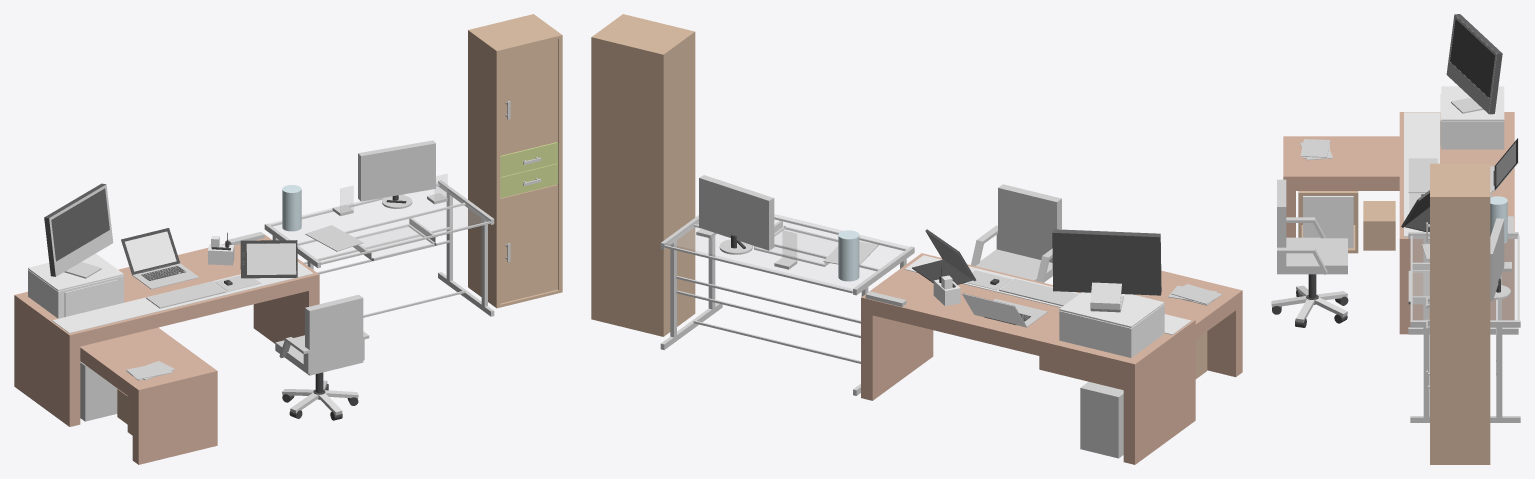
The model's file is studyroom7.glb.
3 renders of one model, left to right at view 1: azimuth 30°, elevation 25°; view 2: azimuth 150°, elevation 25°; view 3: azimuth 270°, elevation 25°, orthographic. The views are drawn at different scales.
Visible parts, largest first — view 1: Cube.078, Cube, Cube.023, Cube.008, Cube.080, Cube.001, Cube.004, Cube.003, PetitEcran, Cube.127, iMac, Cube.012 (+21 smaller); view 2: Cube.076, Cube, Cube.078, iMac, Cube.023, Cube.003, Cube.002, PetitEcran, Cube.001, Cube.127, Cube.007, Cube.016 (+15 smaller); view 3: Cube.084, Cube.001, Cube, Cube.023, iMac, Cube.002, Cube.012, Cube.069, Cube.083, Cube.128, Cube.007, Cube.017 (+22 smaller).
Boxes of the visible parts, x1,y1,x2,y2 form: Cube.078: [468, 31, 500, 305]; Cube: [14, 234, 319, 348]; Cube.023: [269, 182, 490, 262]; Cube.008: [500, 184, 558, 303]; Cube.080: [500, 39, 558, 155]; Cube.001: [80, 327, 217, 403]; Cube.004: [132, 384, 217, 464]; Cube.003: [14, 309, 80, 426]; PetitEcran: [358, 140, 435, 201]; Cube.127: [305, 294, 363, 367]; iMac: [44, 183, 109, 276]; Cube.012: [52, 262, 313, 333]; Cube.076: [595, 38, 659, 332]; Cube: [861, 253, 1195, 379]; Cube.078: [659, 35, 695, 333]; iMac: [1052, 229, 1161, 295]; Cube.023: [666, 214, 908, 290]; Cube.003: [1123, 335, 1195, 464]; Cube.002: [861, 312, 933, 400]; PetitEcran: [699, 175, 774, 250]; Cube.001: [1039, 270, 1242, 389]; Cube.127: [998, 184, 1061, 262]; Cube.007: [1059, 304, 1164, 357]; Cube.016: [1080, 381, 1123, 458]; Cube.084: [1430, 195, 1490, 461]; Cube.001: [1283, 136, 1399, 190]; Cube: [1399, 112, 1514, 253]; Cube.023: [1410, 234, 1518, 319]; iMac: [1450, 14, 1502, 114]; Cube.002: [1399, 253, 1514, 334]; Cube.012: [1404, 112, 1439, 236]; Cube.069: [1303, 196, 1353, 248]; Cube.083: [1430, 163, 1490, 199]; Cube.128: [1277, 238, 1347, 274]; Cube.007: [1441, 121, 1504, 149]; Cube.017: [1363, 201, 1395, 250].
Size of the model in its own units: 3.86 by 1.87 by 1.58.
